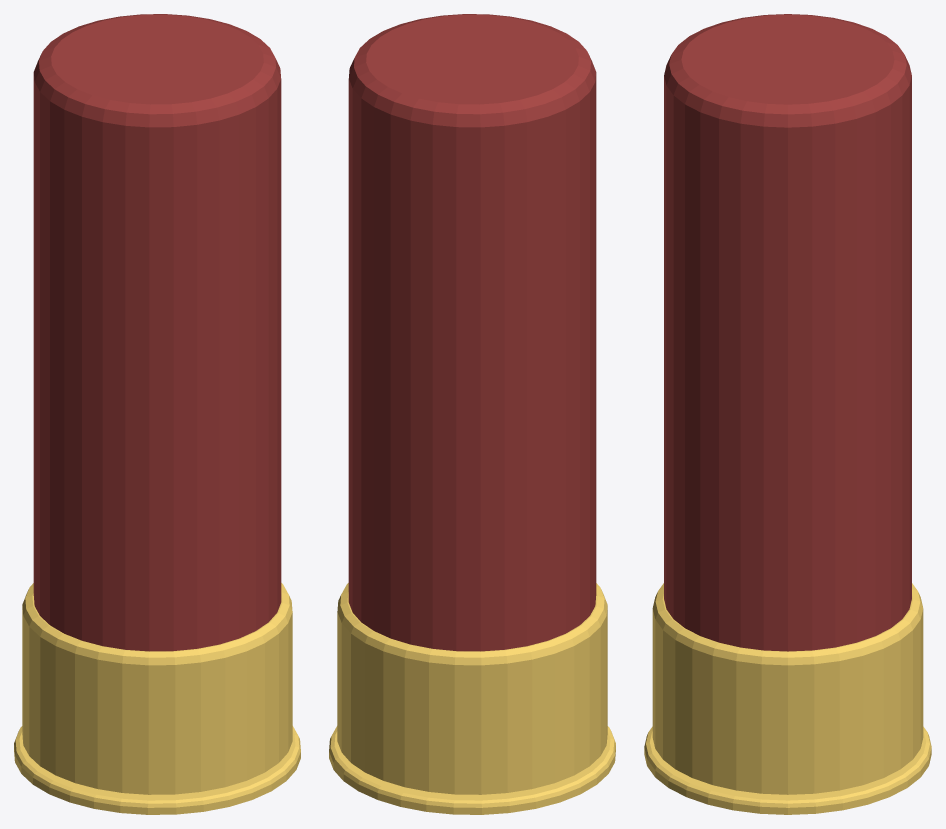
The model's file is Bullet_Sawed_off_shotgun.fbx.
The picture shows the model from 3 angles, left to right: view 1: azimuth 30°, elevation 25°; view 2: azimuth 150°, elevation 25°; view 3: azimuth 270°, elevation 25°; orthographic projection.
Visible parts, largest first — view 1: Cylinder; view 2: Cylinder; view 3: Cylinder.
Part boxes in pixels (bbox=[...]): Cylinder: bbox=[14, 14, 300, 814]; Cylinder: bbox=[329, 14, 615, 814]; Cylinder: bbox=[644, 14, 931, 814].
Size of the model in its own units: 144 by 385 by 144.
